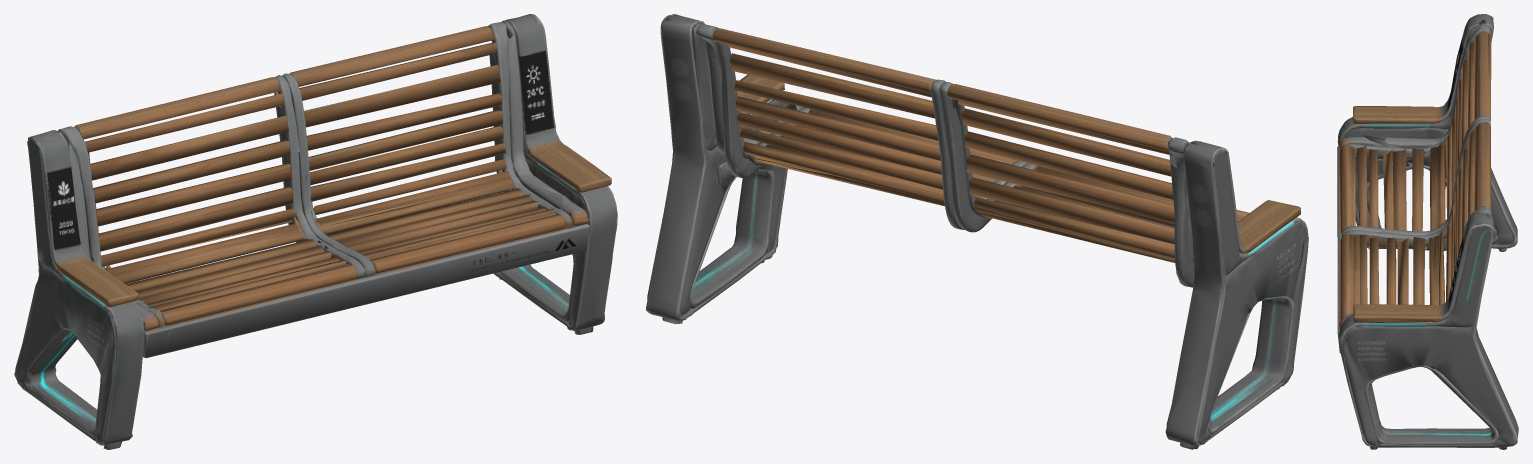
Rendered from neon_park_bench.glb.
3 views of the same model, side by side, from view 1: azimuth 30°, elevation 25°; view 2: azimuth 150°, elevation 25°; view 3: azimuth 270°, elevation 25° (orthographic). The views are drawn at different scales.
Bounding box in the file's own units: 1 × 0.5078 × 0.3633.
Materials: 1 (1 with a texture image).
